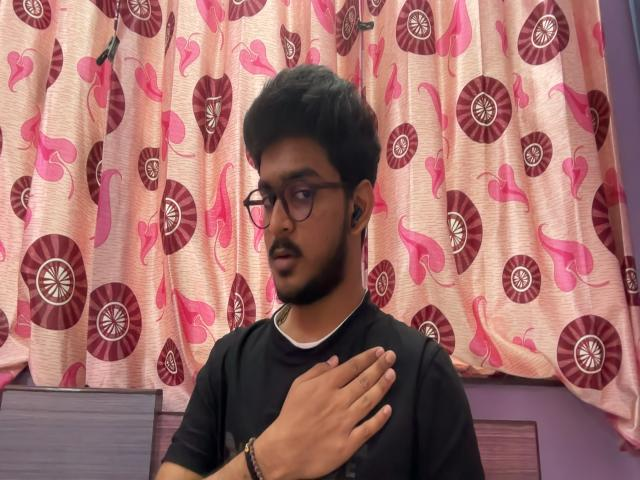Please: (254, 339, 409, 480)
